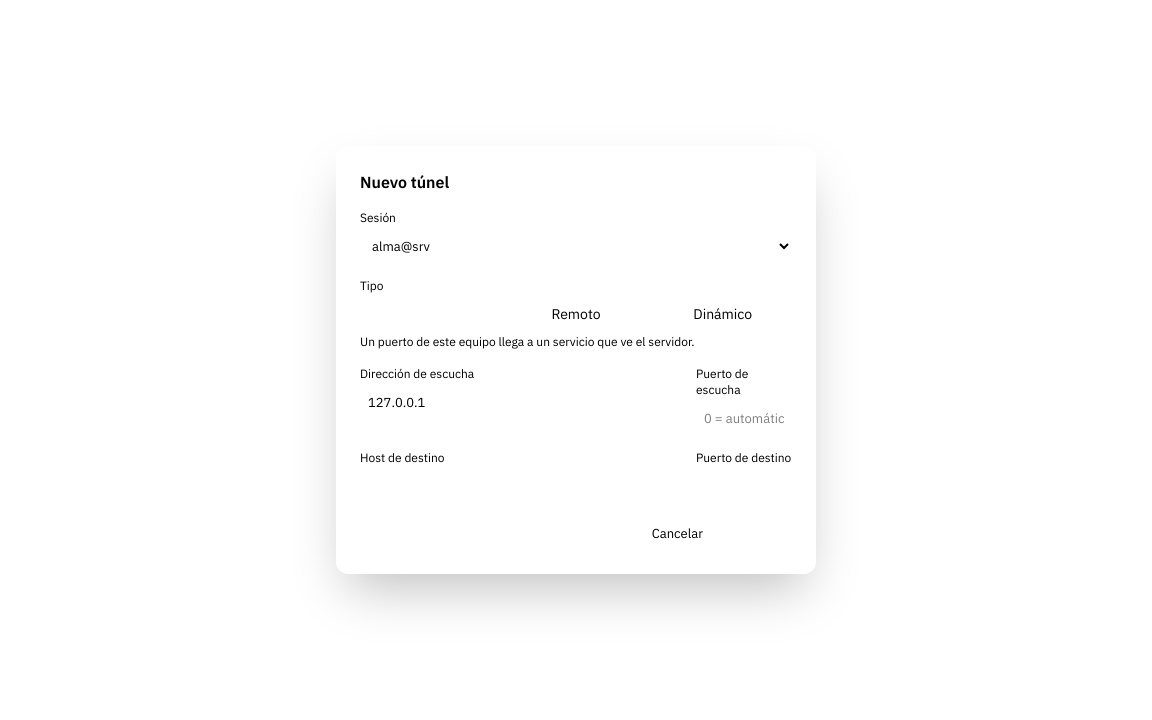
Scenario: TunnelDialog › offers to keep the tunnel only for sessions that are saved
expect the checkbox labelled "Guardar con la sesión" is not shown: met
Select "Prod" in the dropdown labelled "Sesión": (576, 246) top-left (360, 230), bottom-right (792, 262)
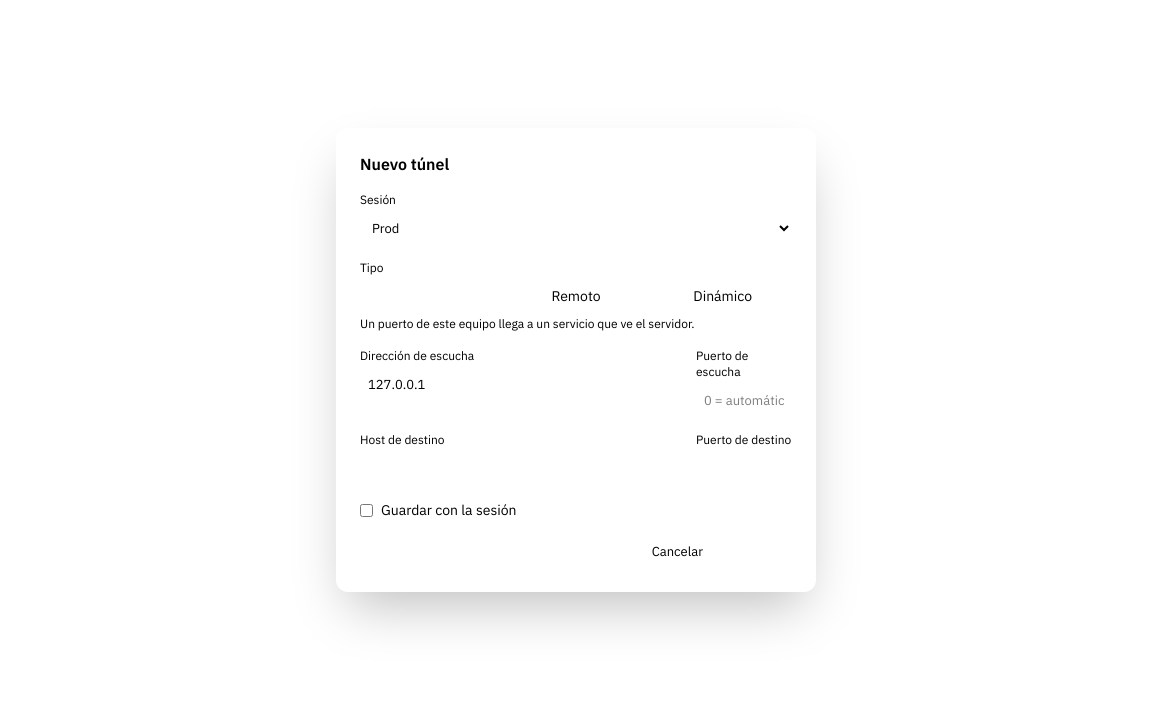
expect the checkbox labelled "Guardar con la sesión" is shown: met, box top-left (360, 504), bottom-right (373, 516)
